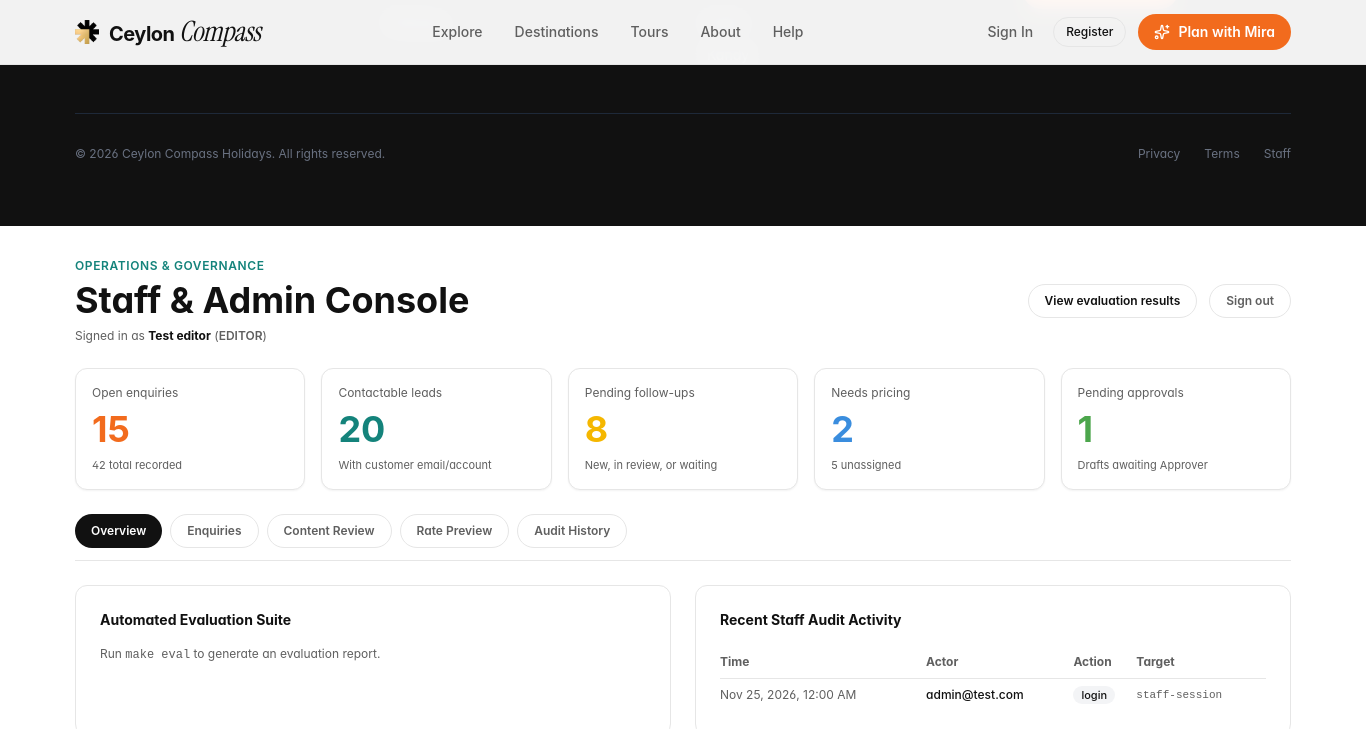
it: StaffConsole Content Review & Approver Publish › creates a draft and shows success message
(page scrolled)
Click the button "Content Review": (329, 531) [266,514,392,548]
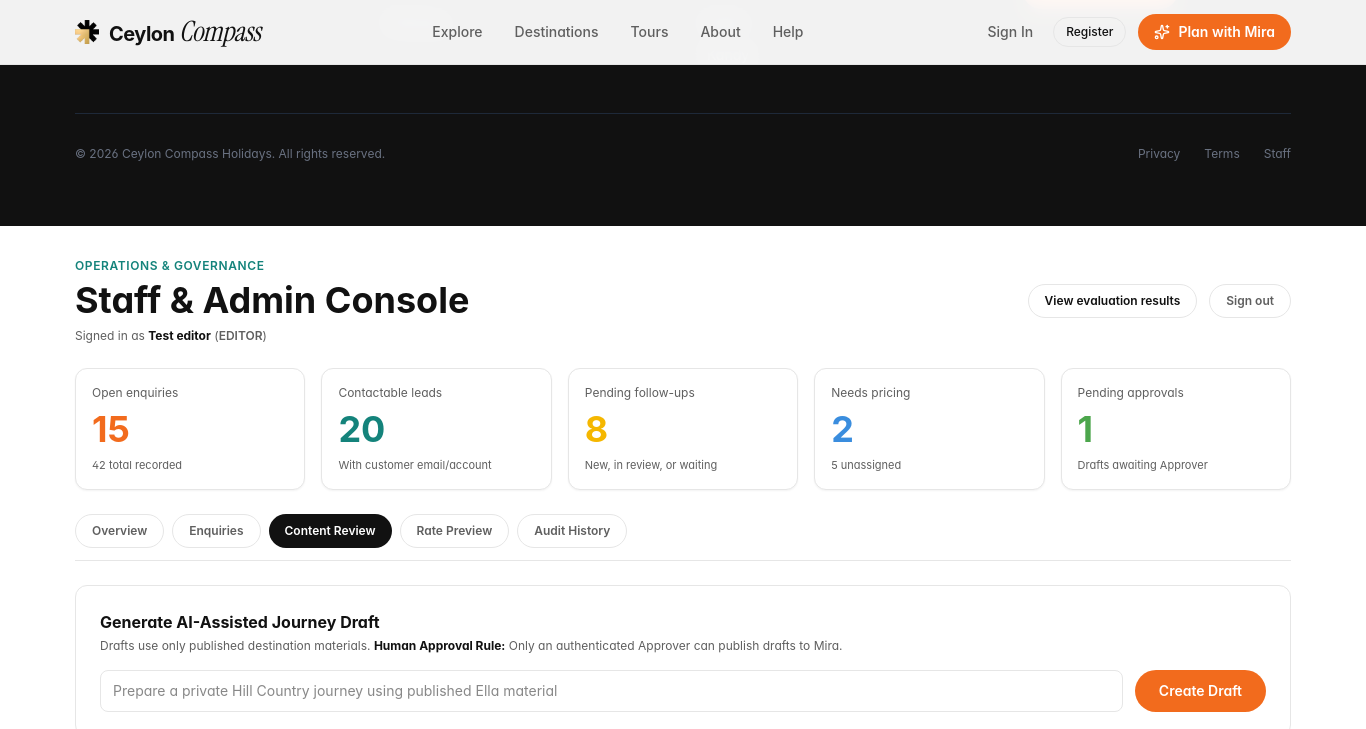
Now the field with placeholder "Prepare a private Hill Country" is shown
Replace the text in the field with placeholder "Prepare a private Hill Country" with "Create a Hill Country draft for Ella": (611, 691) [100,670,1123,712]
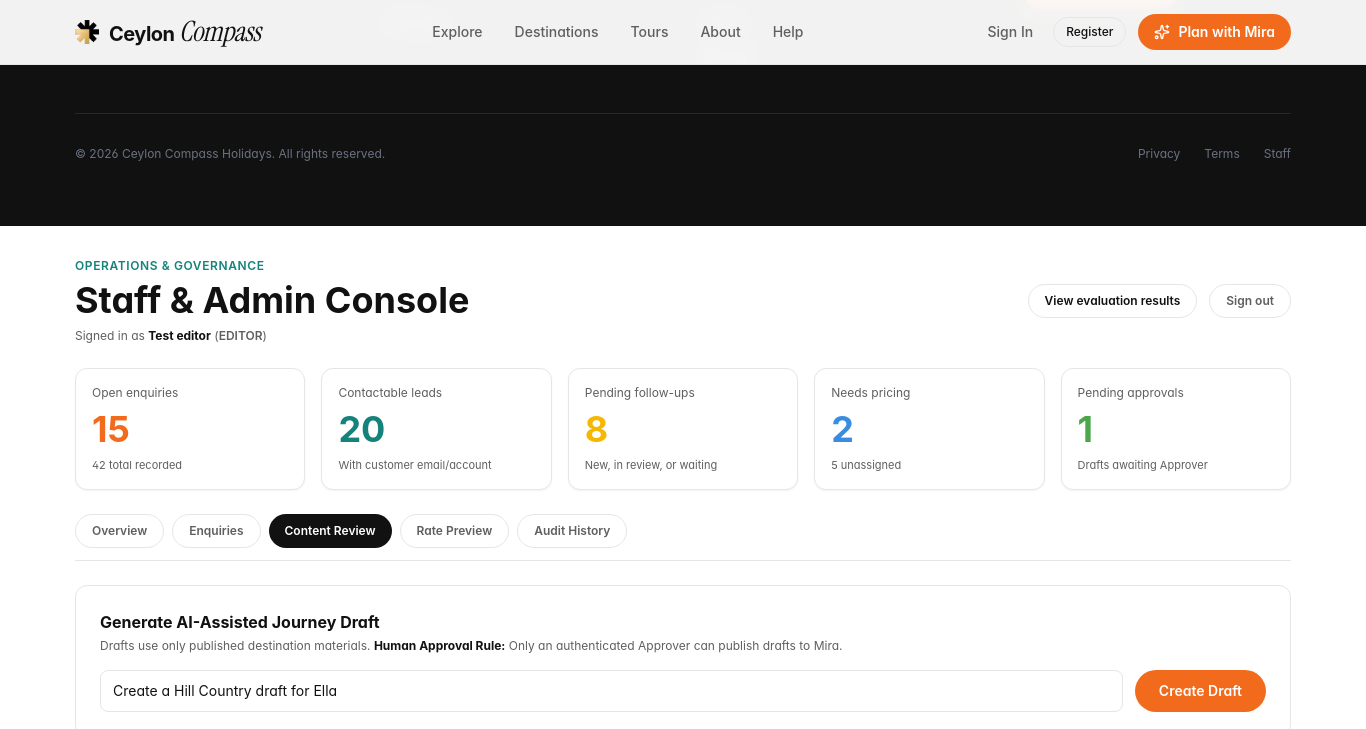
Click the button "Create Draft": (1200, 691) [1135,670,1266,712]
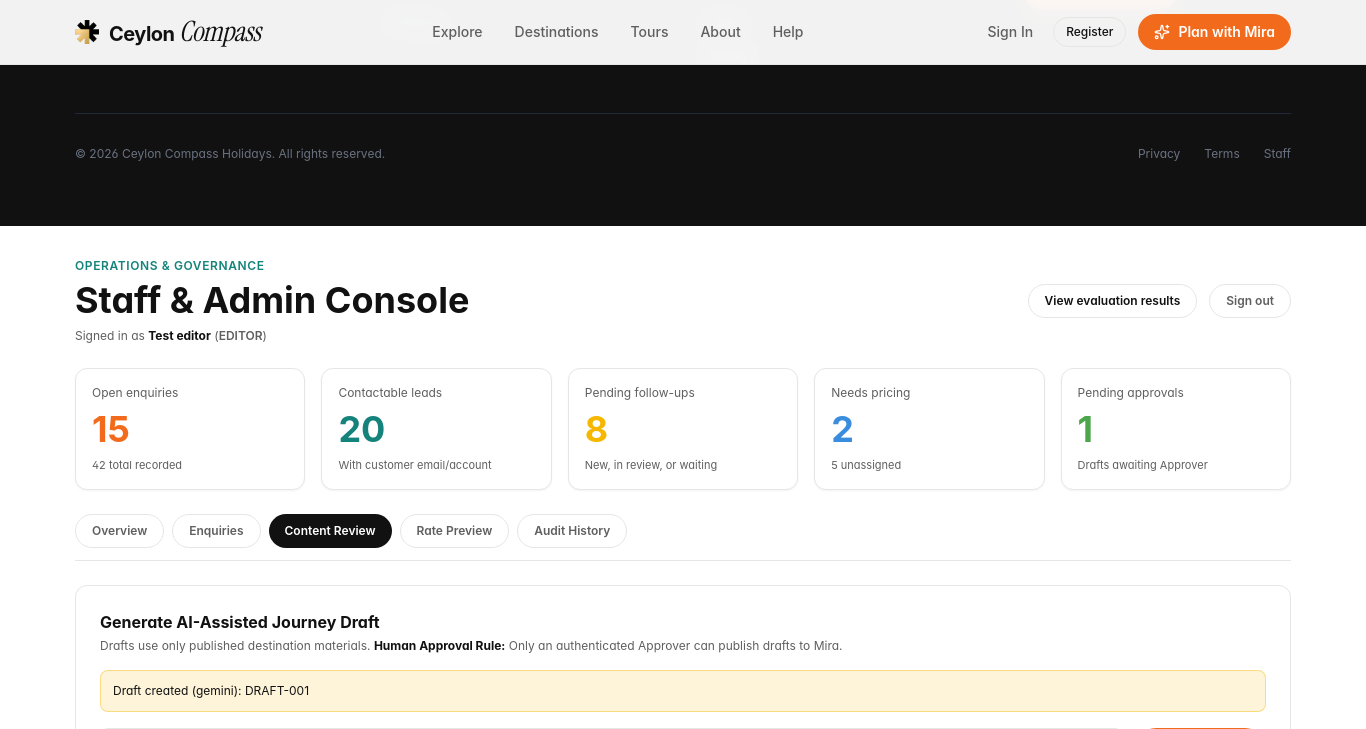
Now the text "Draft created (gemini): DRAFT-001" is shown, box [100,670,1266,712]
